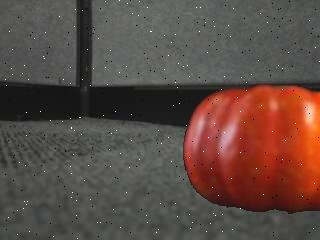Pumpkin: (182, 85, 320, 215)
